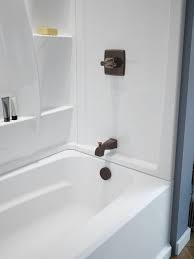bathub: (2, 146, 176, 259)
